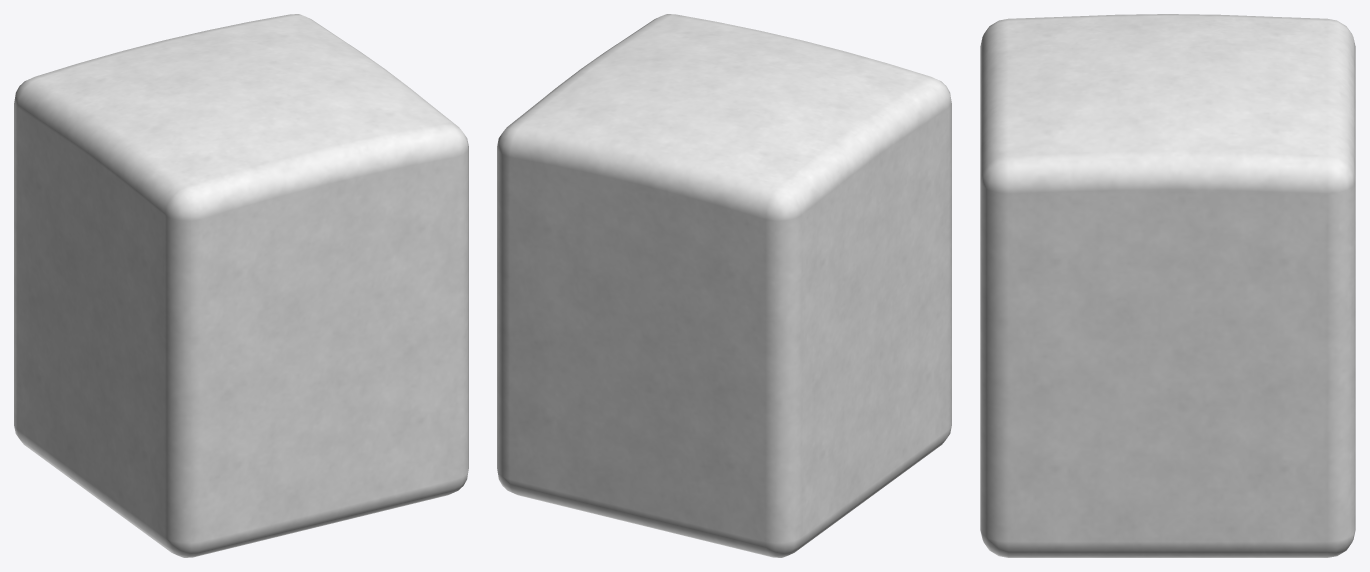
Rendered from sitting_couch.fbx.
3 views of the same model, side by side, from view 1: azimuth 30°, elevation 25°; view 2: azimuth 150°, elevation 25°; view 3: azimuth 270°, elevation 25° (orthographic). The views are drawn at different scales.
Visible parts, largest first — view 1: sitting_couch; view 2: sitting_couch; view 3: sitting_couch.
Part boxes in pixels (x1,y1,x2,y2): sitting_couch: [14, 14, 468, 557]; sitting_couch: [497, 14, 951, 557]; sitting_couch: [980, 14, 1355, 557].
Bounding box in the file's own units: 39.5 × 48.14 × 39.5.
Materials: 1 (1 with a texture image).
